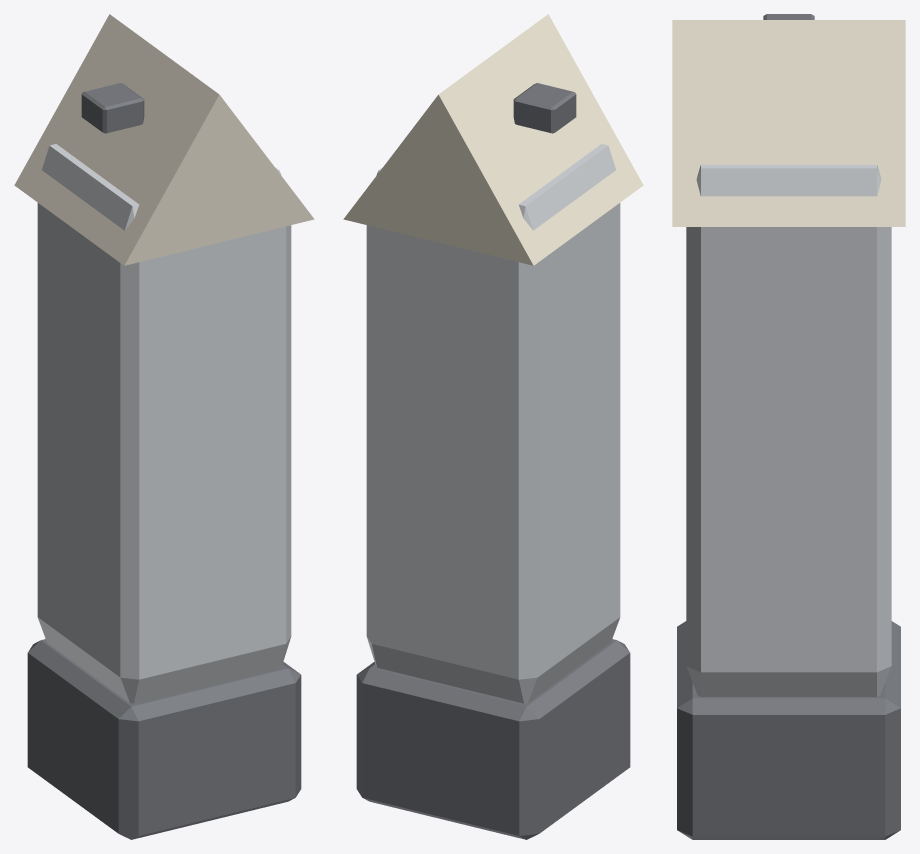
The model's file is b10_freestanding_barber_pole_sign.glb.
3 renders of one model, left to right at view 1: azimuth 30°, elevation 25°; view 2: azimuth 150°, elevation 25°; view 3: azimuth 270°, elevation 25°, orthographic. The views are drawn at different scales.
Visible parts, largest first — view 1: b10_freestanding_barber_pole_sign; view 2: b10_freestanding_barber_pole_sign; view 3: b10_freestanding_barber_pole_sign.
Part boxes in pixels (x1,y1,x2,y2): b10_freestanding_barber_pole_sign: [14, 14, 314, 839]; b10_freestanding_barber_pole_sign: [343, 14, 643, 839]; b10_freestanding_barber_pole_sign: [672, 14, 905, 839].
Size of the model in its own units: 0.5 by 1.84 by 0.5.
